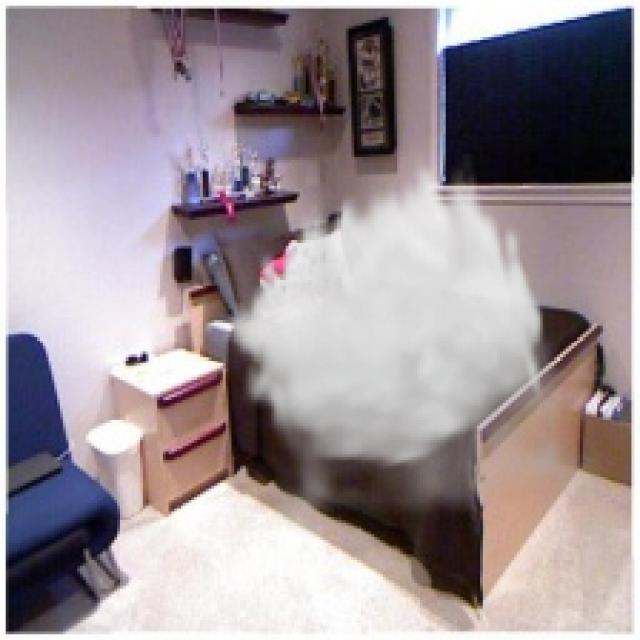Smoke: (226, 154, 614, 543)
